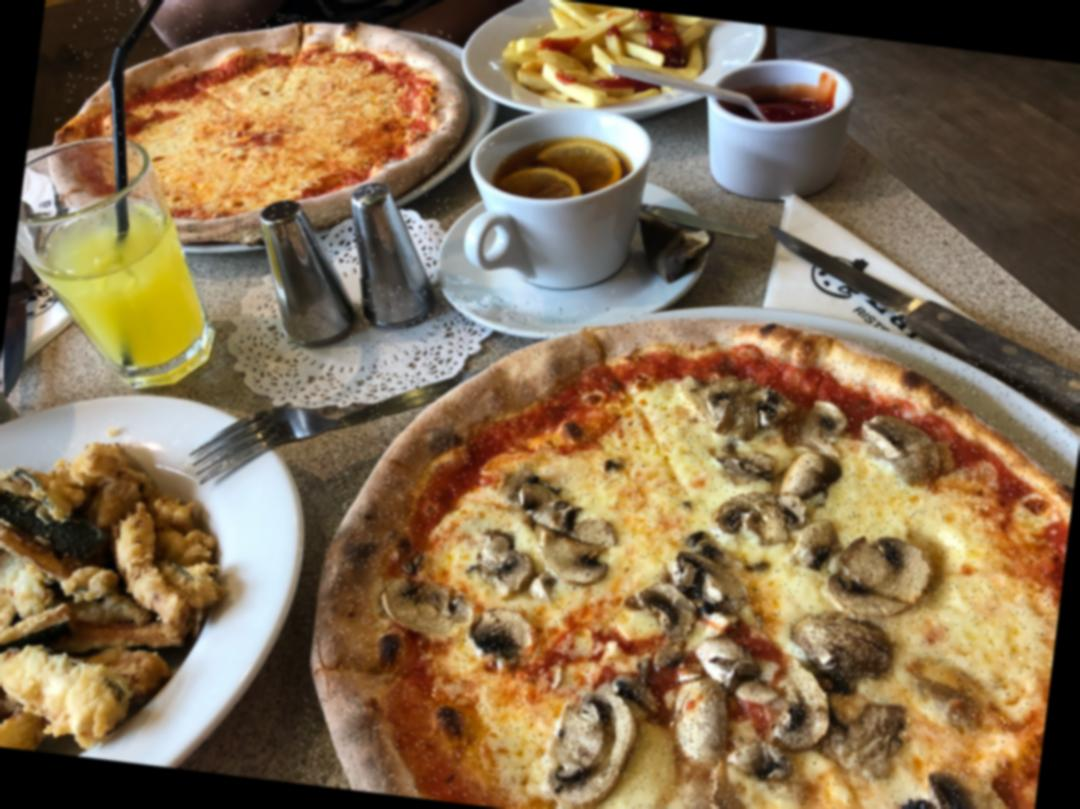Basil: (296, 277, 1080, 809), (44, 0, 475, 267)
Mushroom: (543, 688, 639, 809), (509, 481, 617, 586), (825, 530, 938, 626), (793, 610, 898, 682), (859, 413, 952, 486), (381, 576, 475, 642), (703, 375, 796, 440), (668, 674, 733, 766), (776, 655, 837, 750), (672, 548, 755, 616), (715, 488, 807, 548), (637, 580, 700, 638), (472, 604, 538, 659), (779, 449, 845, 502)
